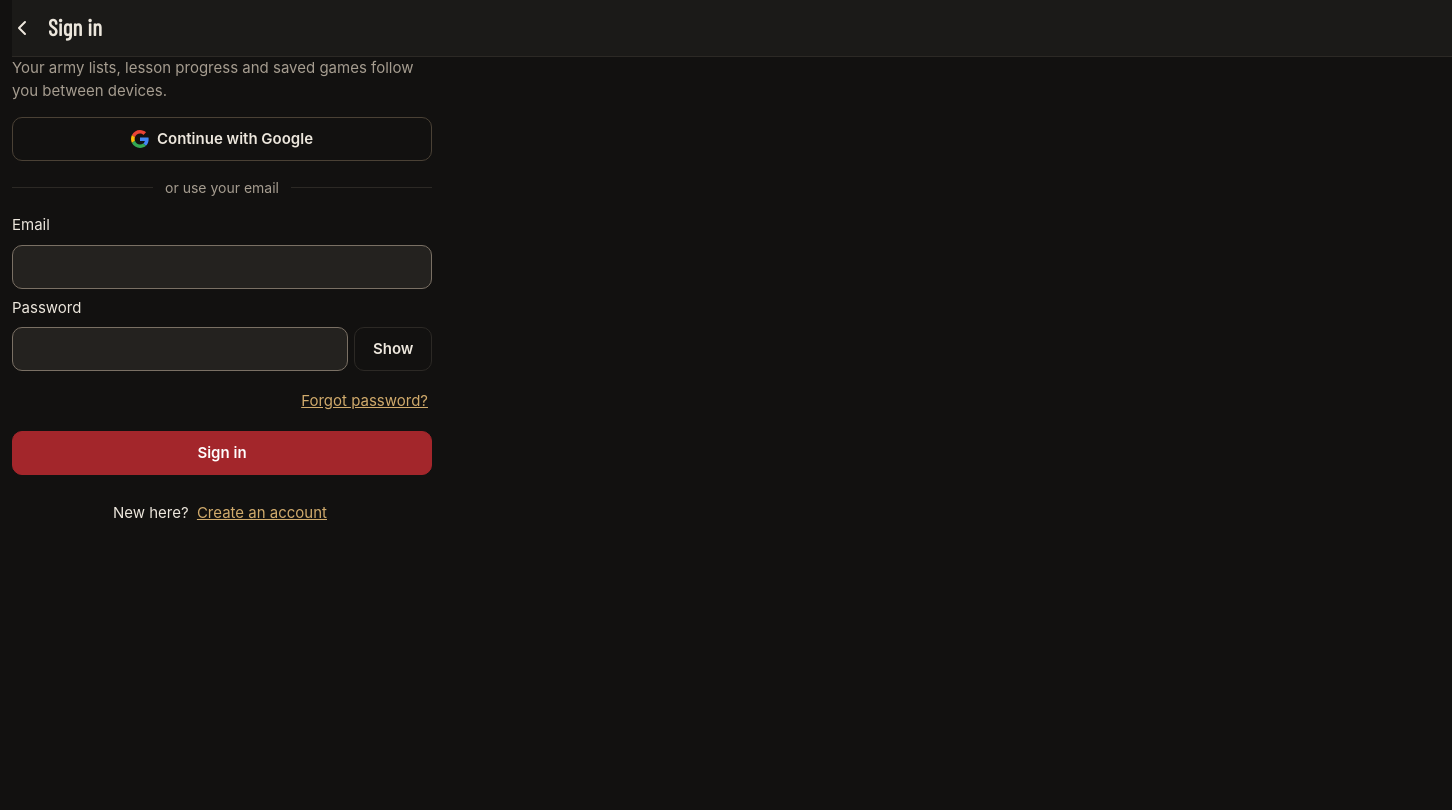
Test: a wrong password shows the error and keeps the email filled in
Type "a@b.c" into the field labelled "Email" at [222, 266], box [12, 244, 432, 288]
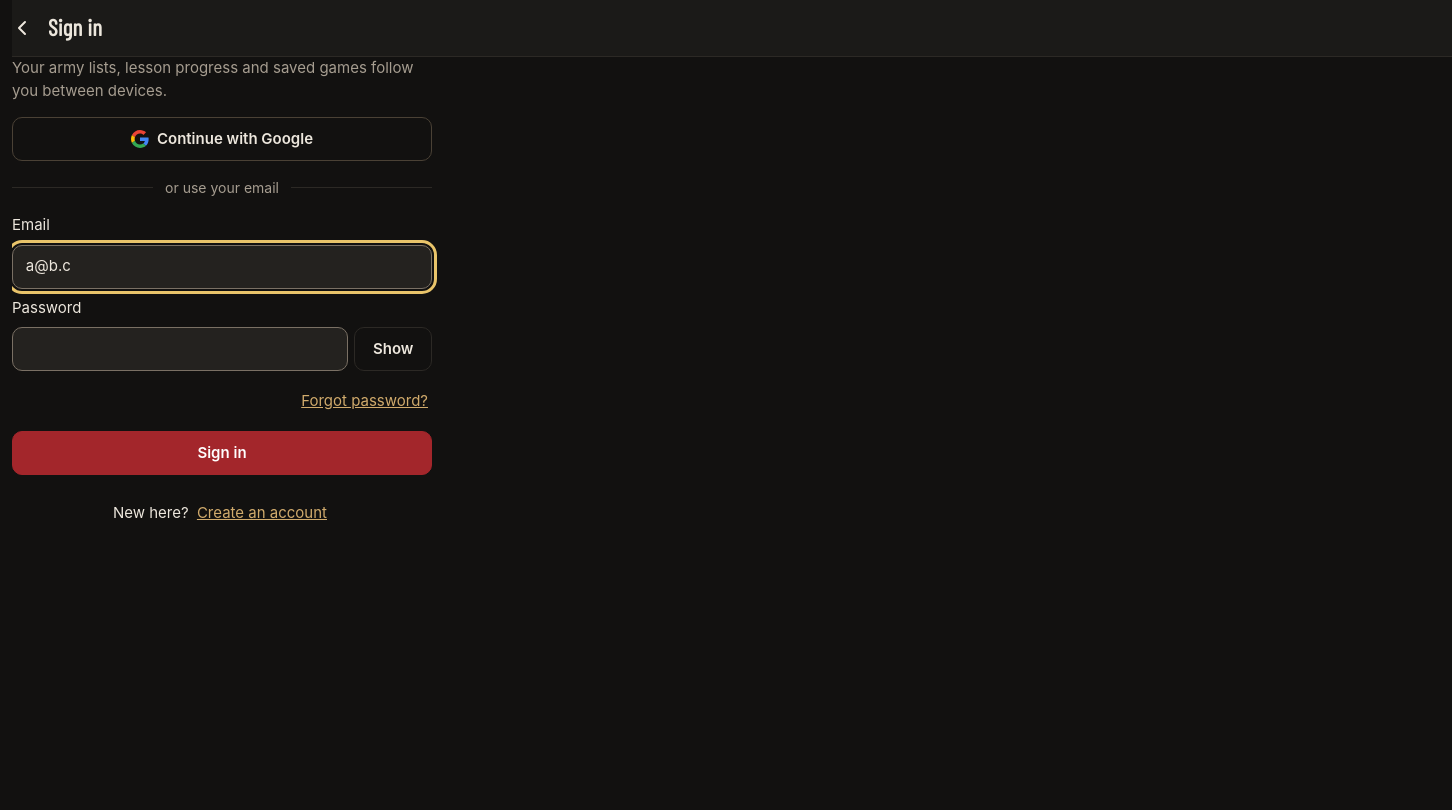
Type "wrong" into the password field labelled "Password" at [180, 349], box [12, 327, 348, 371]
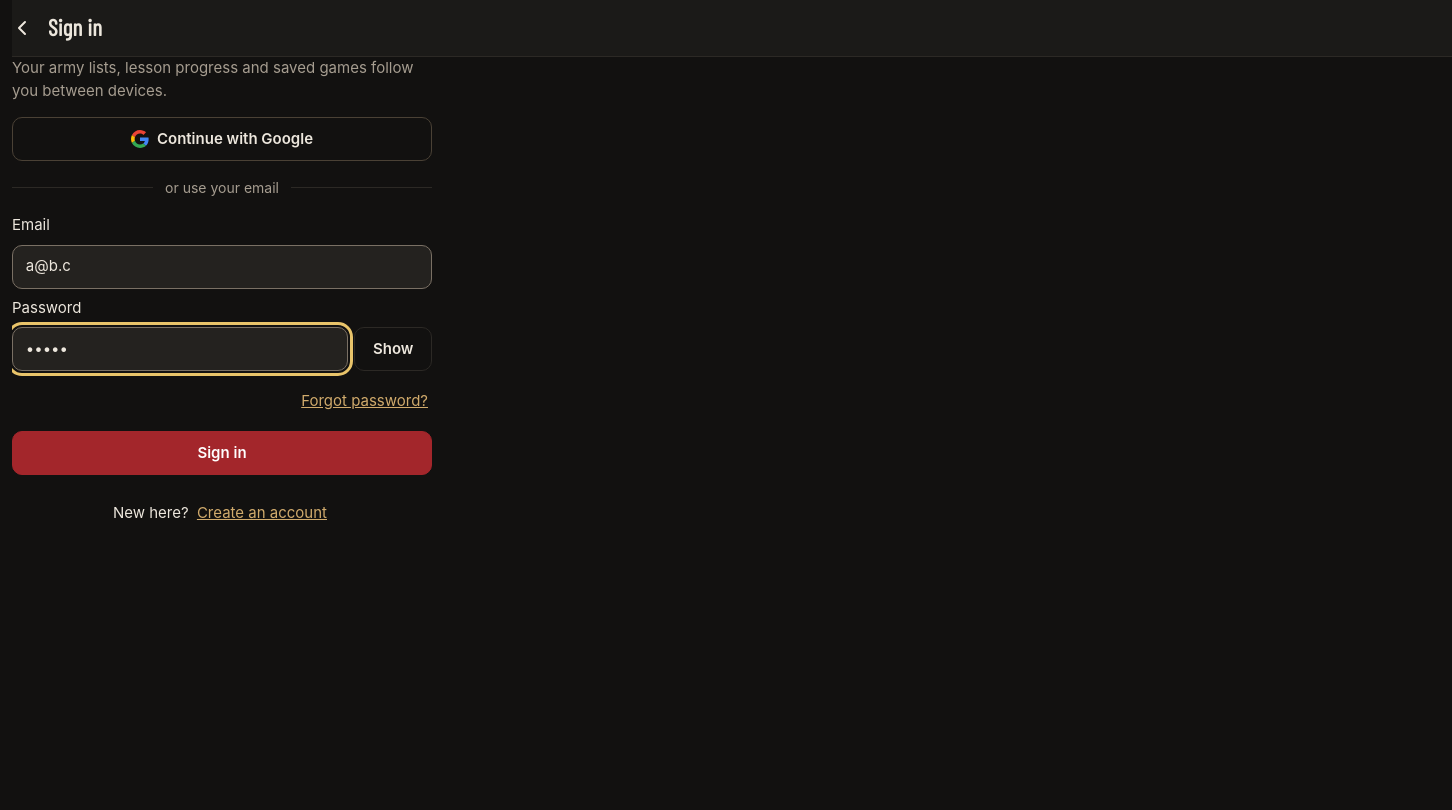
Click the button "Sign in" at [222, 453], box [12, 431, 432, 475]
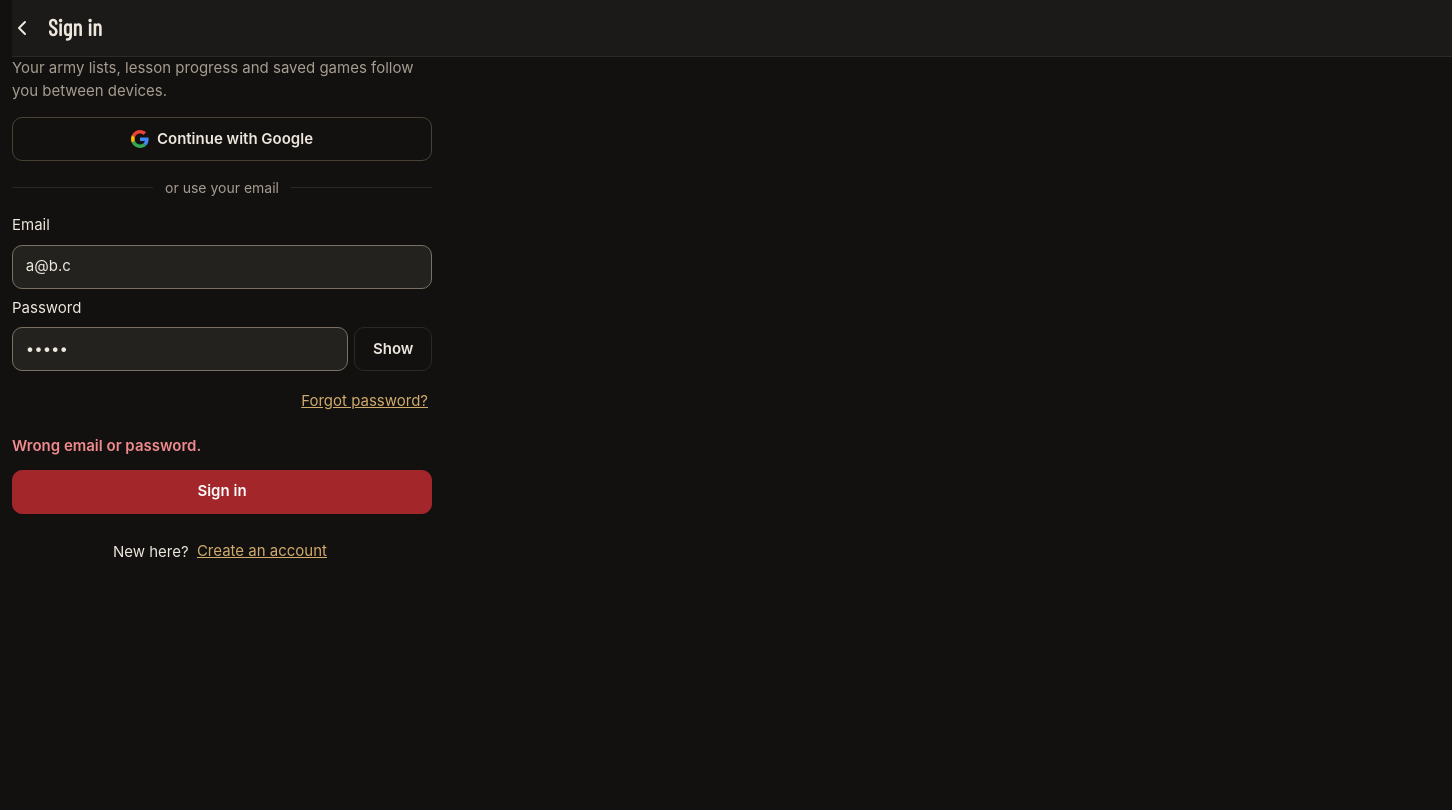
Now the message reads "Wrong email or password.", box [12, 436, 201, 455]
